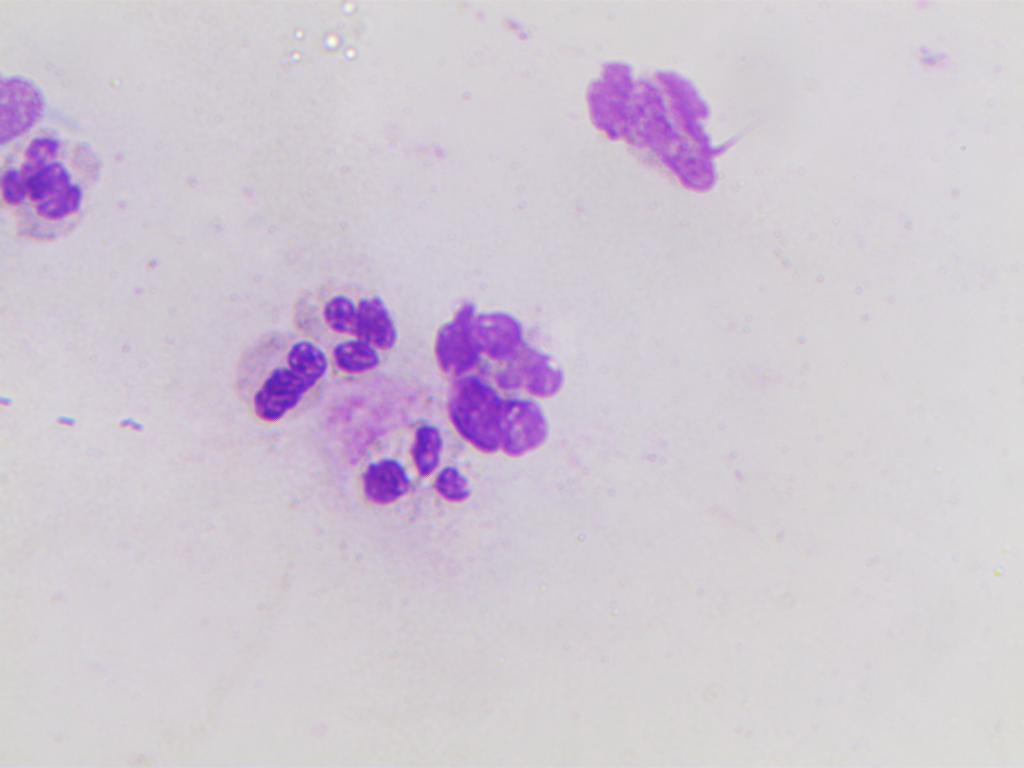artifact: (567, 40, 730, 216)
epithelial: (0, 67, 58, 143)
neutrophil: (427, 294, 570, 458), (345, 423, 489, 516), (0, 133, 106, 244), (221, 333, 329, 437), (281, 275, 399, 370)
